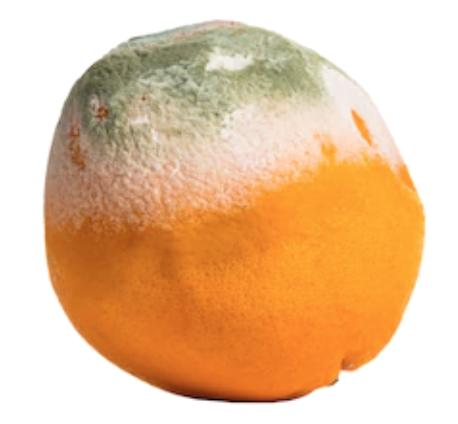Orange Rotten: (40, 17, 444, 418)
